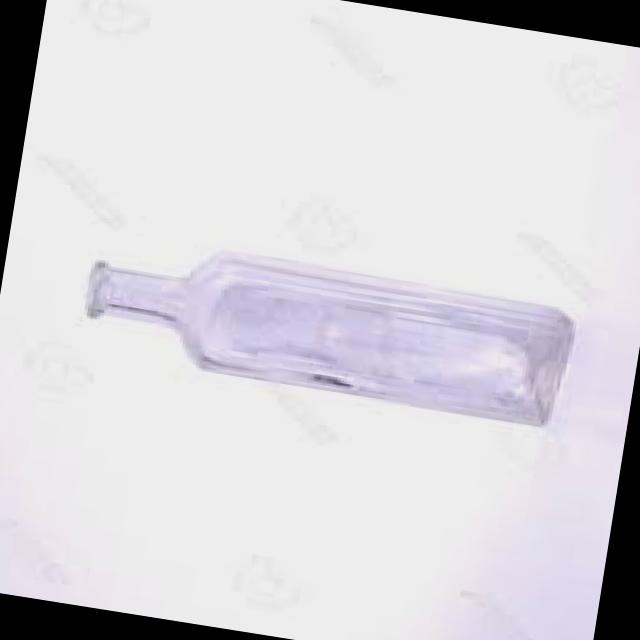bottle: (86, 252, 572, 423)
